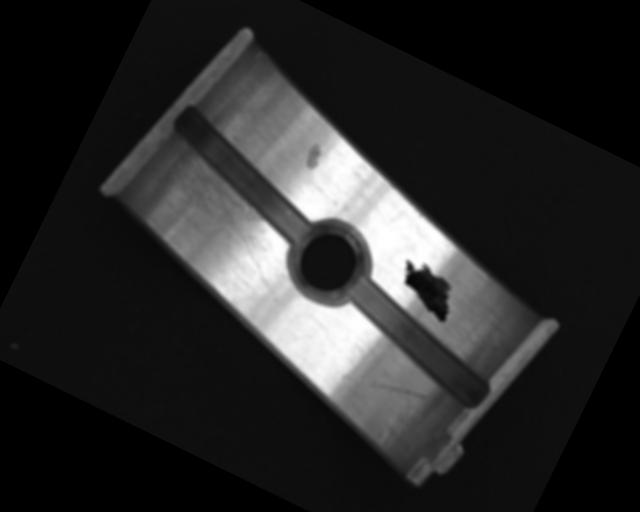blot: (386, 254, 464, 326)
bruise: (301, 140, 327, 172)
gap: (148, 102, 337, 251), (325, 272, 511, 412)
hole: (274, 208, 380, 313)
nick: (339, 357, 431, 419)
scratch: (127, 135, 307, 286)
